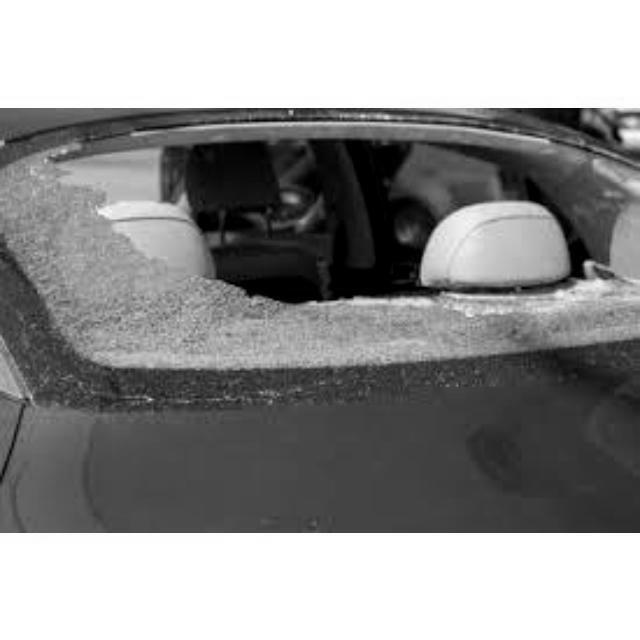Rear-windscreen-Damage: (5, 112, 638, 435)
